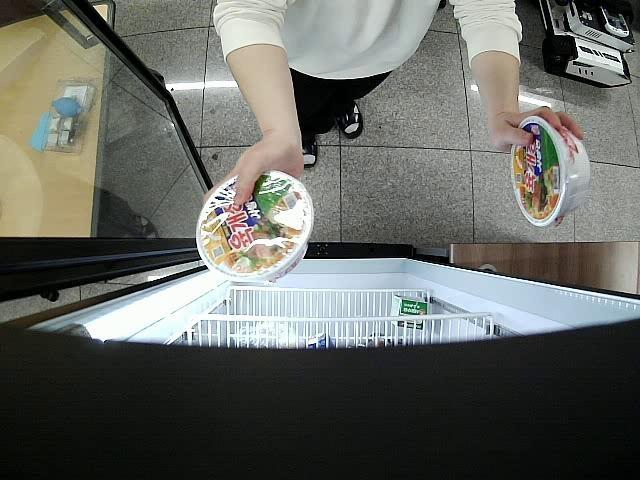09_yukGaeJang: (196, 169, 315, 285), (510, 117, 590, 226)
